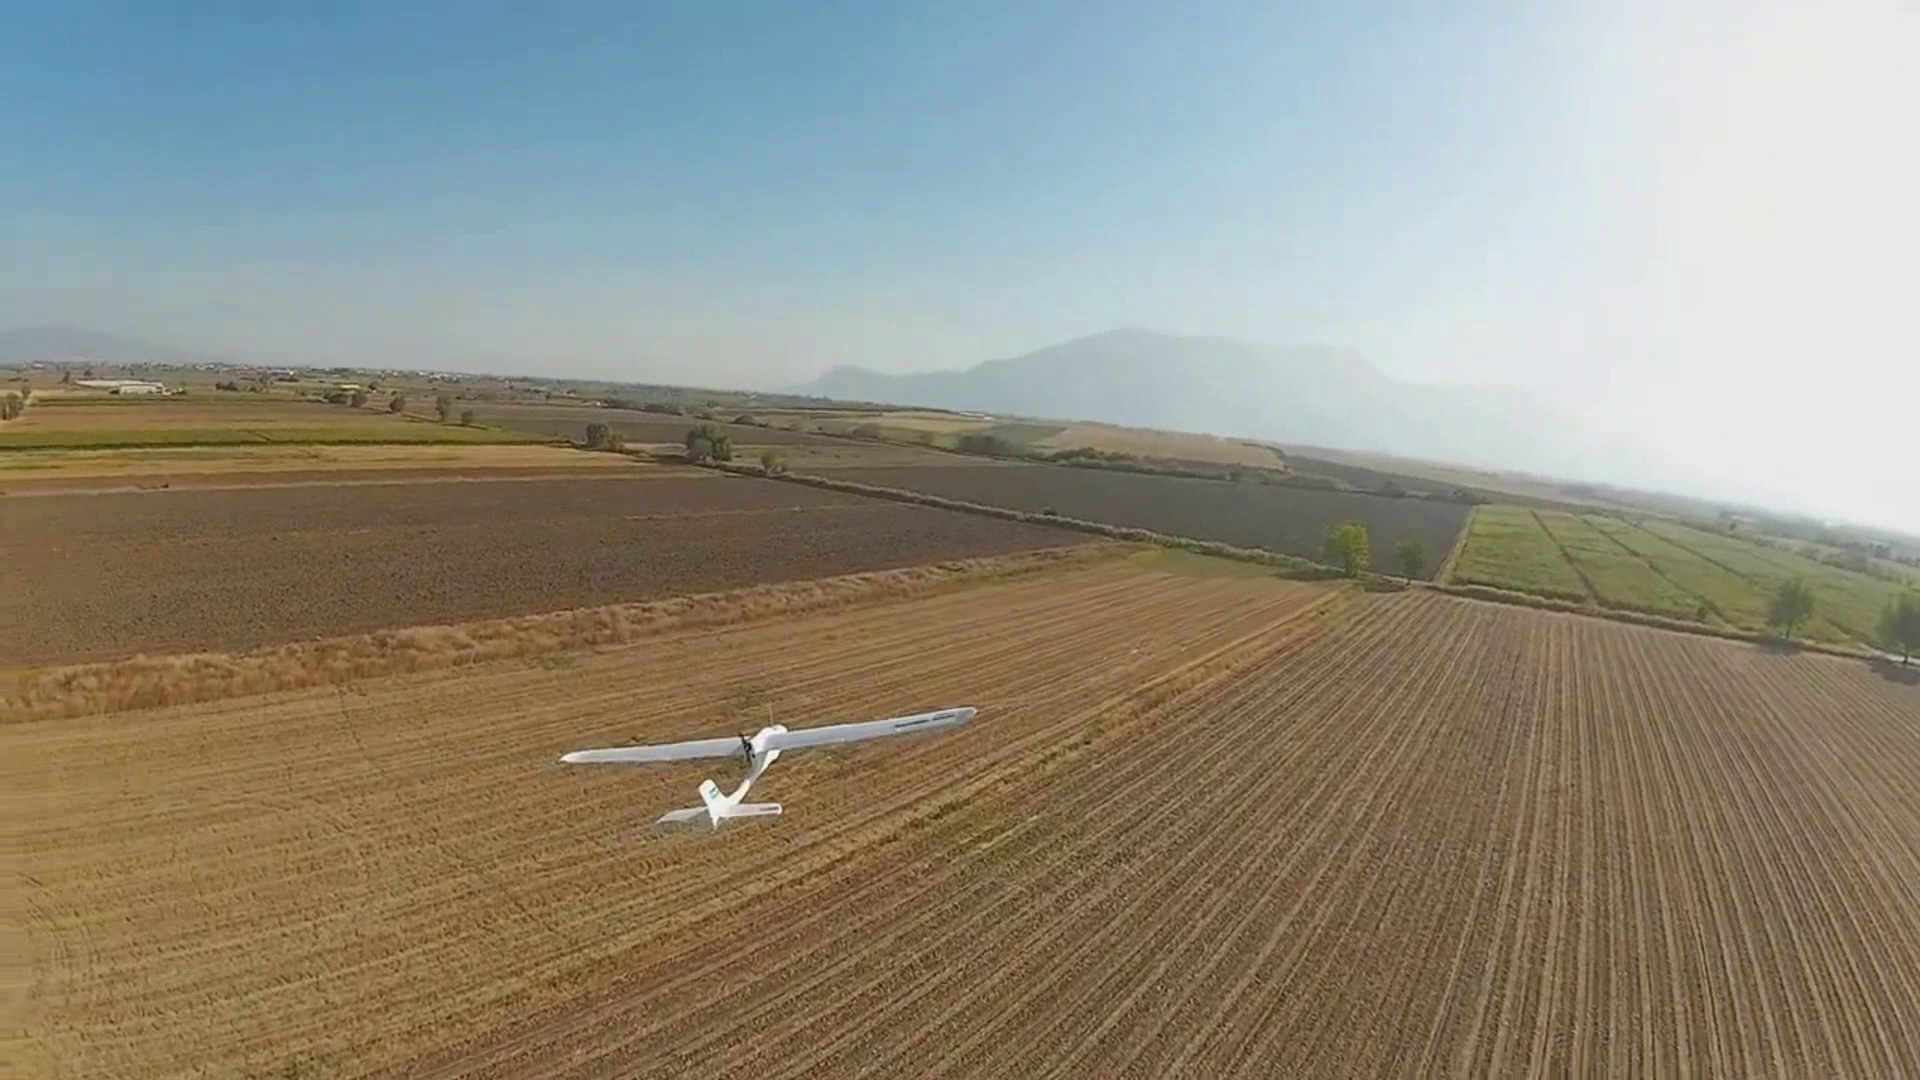airplane: (556, 703, 978, 832)
